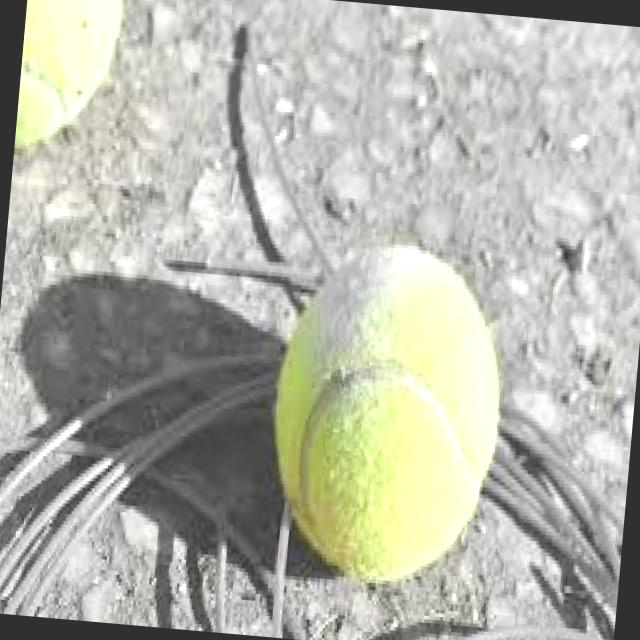tennis-ball: (263, 232, 514, 590), (13, 0, 124, 160)
